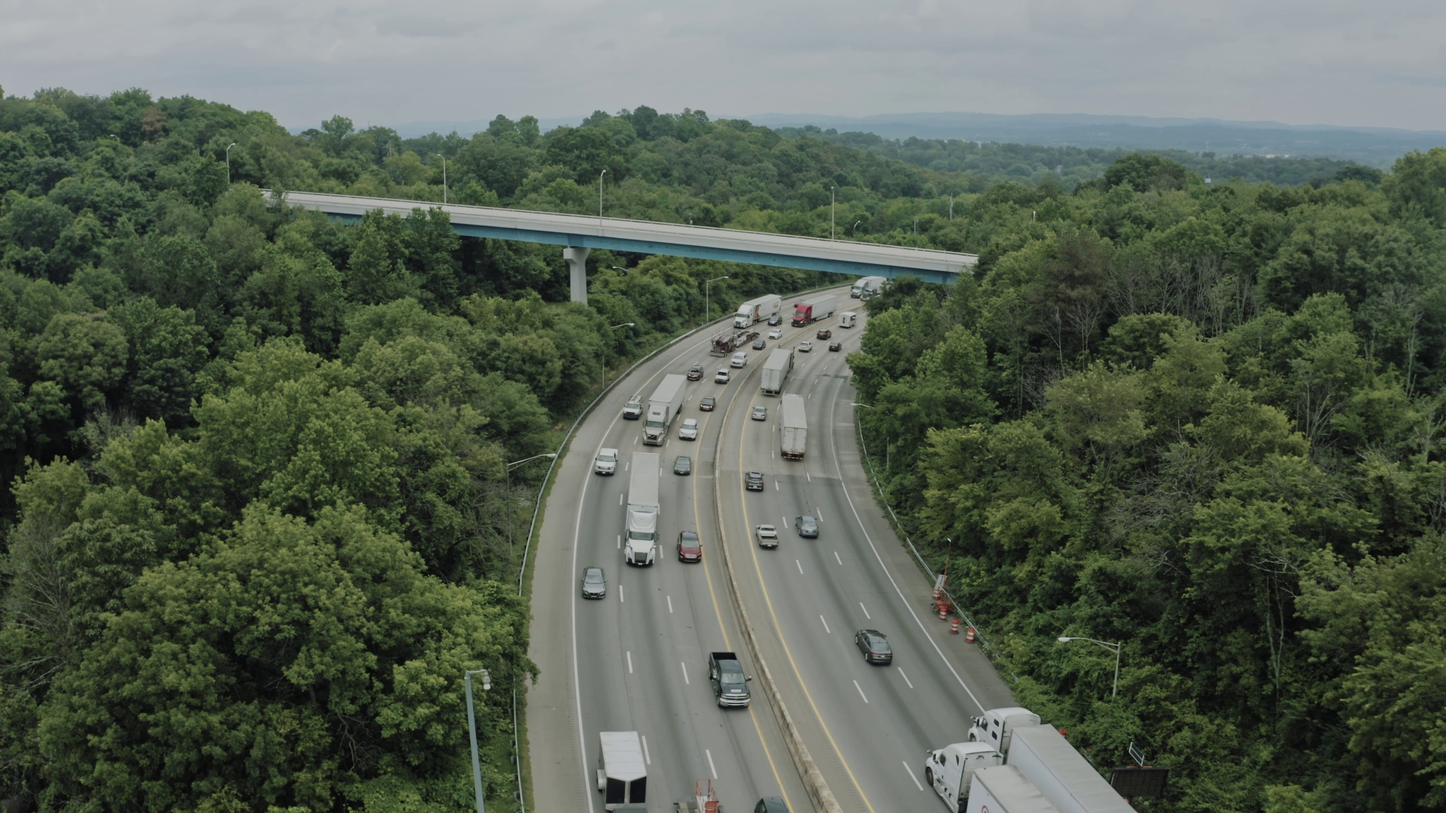Vehicle: (924, 741, 1004, 813), (967, 707, 1048, 765), (617, 506, 665, 570), (670, 776, 743, 812), (708, 652, 752, 709), (642, 403, 674, 448), (855, 629, 893, 665), (930, 575, 954, 615), (676, 530, 703, 563), (581, 566, 608, 599), (730, 303, 759, 330), (790, 301, 815, 329), (710, 334, 737, 358), (595, 448, 619, 475), (754, 796, 790, 813), (755, 524, 779, 548), (795, 515, 819, 538), (623, 395, 644, 420), (847, 279, 869, 299), (679, 418, 698, 441), (674, 455, 693, 475), (745, 471, 764, 491), (837, 311, 857, 329), (730, 351, 748, 368), (861, 286, 878, 304), (714, 368, 731, 384), (687, 365, 704, 381), (699, 396, 716, 411), (751, 406, 768, 421), (798, 341, 813, 353), (816, 329, 832, 340), (752, 339, 766, 350), (768, 315, 782, 326), (828, 342, 842, 352), (771, 329, 783, 339)
